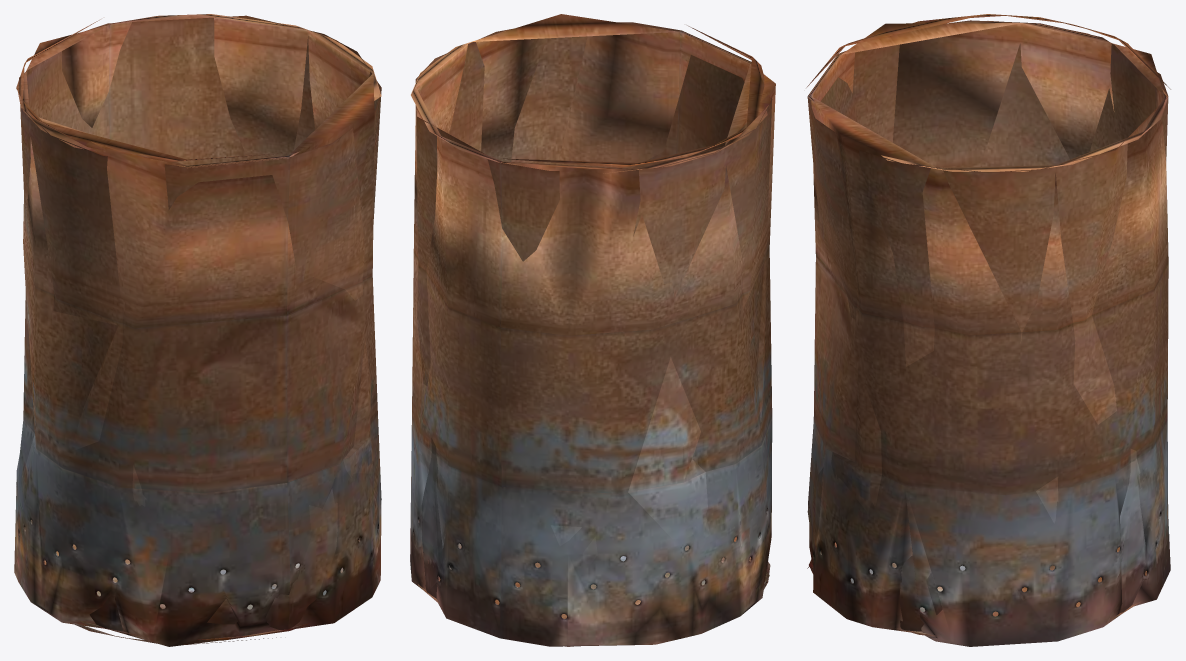
File: p_stove.glb
The picture shows the model from 3 angles, left to right: view 1: azimuth 30°, elevation 25°; view 2: azimuth 150°, elevation 25°; view 3: azimuth 270°, elevation 25°; orthographic projection.
Visible parts, largest first — view 1: barrel_stove; view 2: barrel_stove; view 3: barrel_stove.
Part boxes in pixels (x1,y1,x2,y2): barrel_stove: (14,14,381,646); barrel_stove: (410,14,775,646); barrel_stove: (806,14,1170,646).
Size of the model in its own units: 0.5819 by 0.8539 by 0.5887.
Materials: 1 (1 with a texture image).
